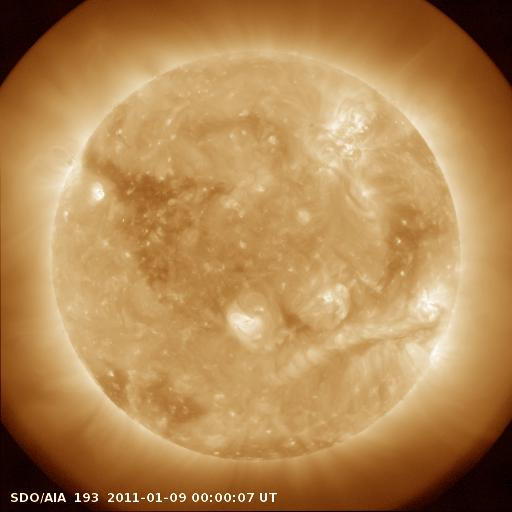coronal_hole: (86, 151, 225, 283), (376, 203, 443, 286), (148, 374, 214, 439)
